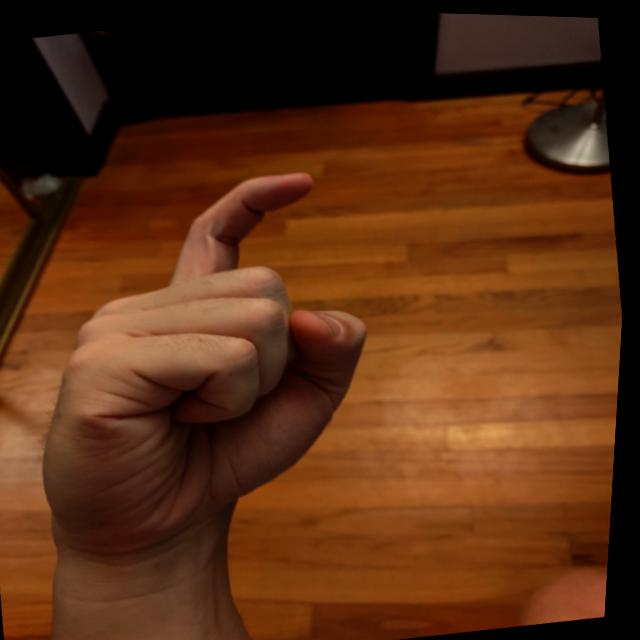X: (0, 149, 415, 570)
